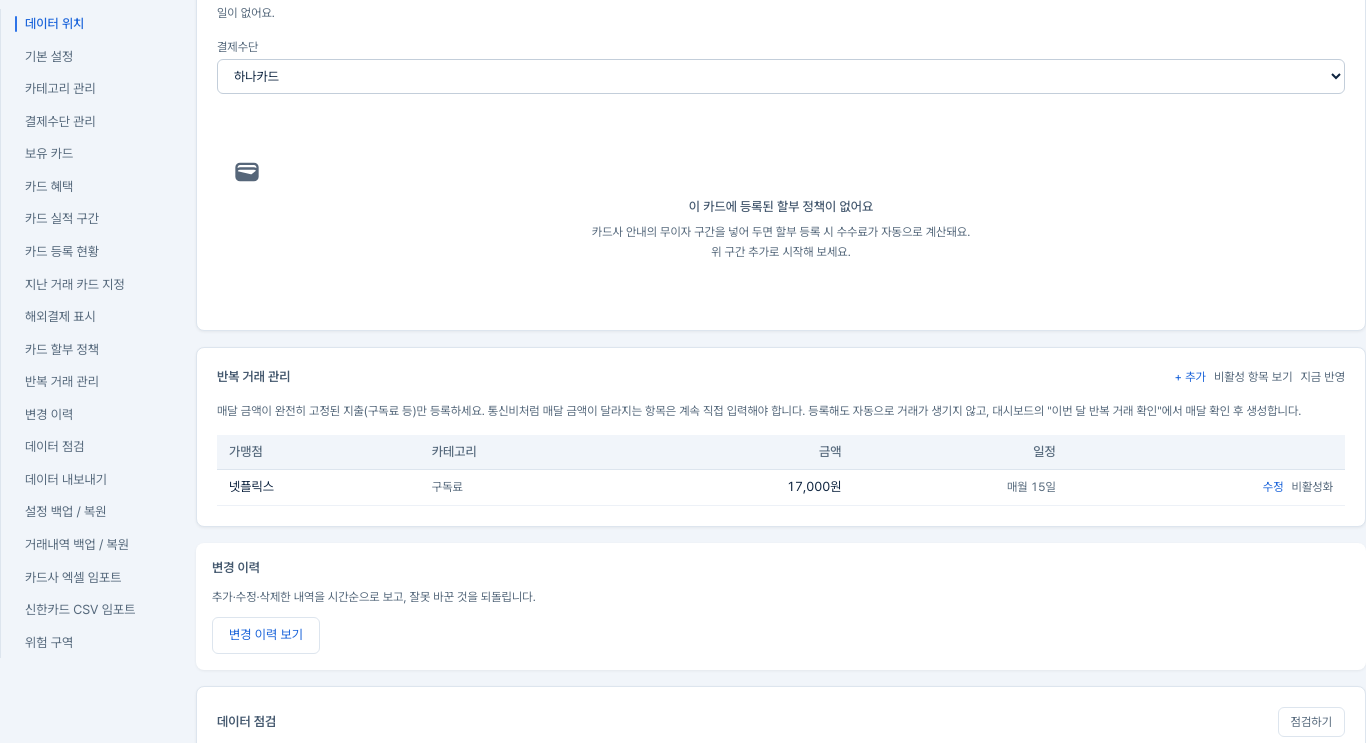
Test: 목록 › 비활성 항목 보기로 넘기면 함께 보여주고 일정도 주기에 맞춘다
The image size is (1366, 743).
(page scrolled)
Click the button "비활성 항목 보기" at (1253, 377), box [1214,369,1292,385]
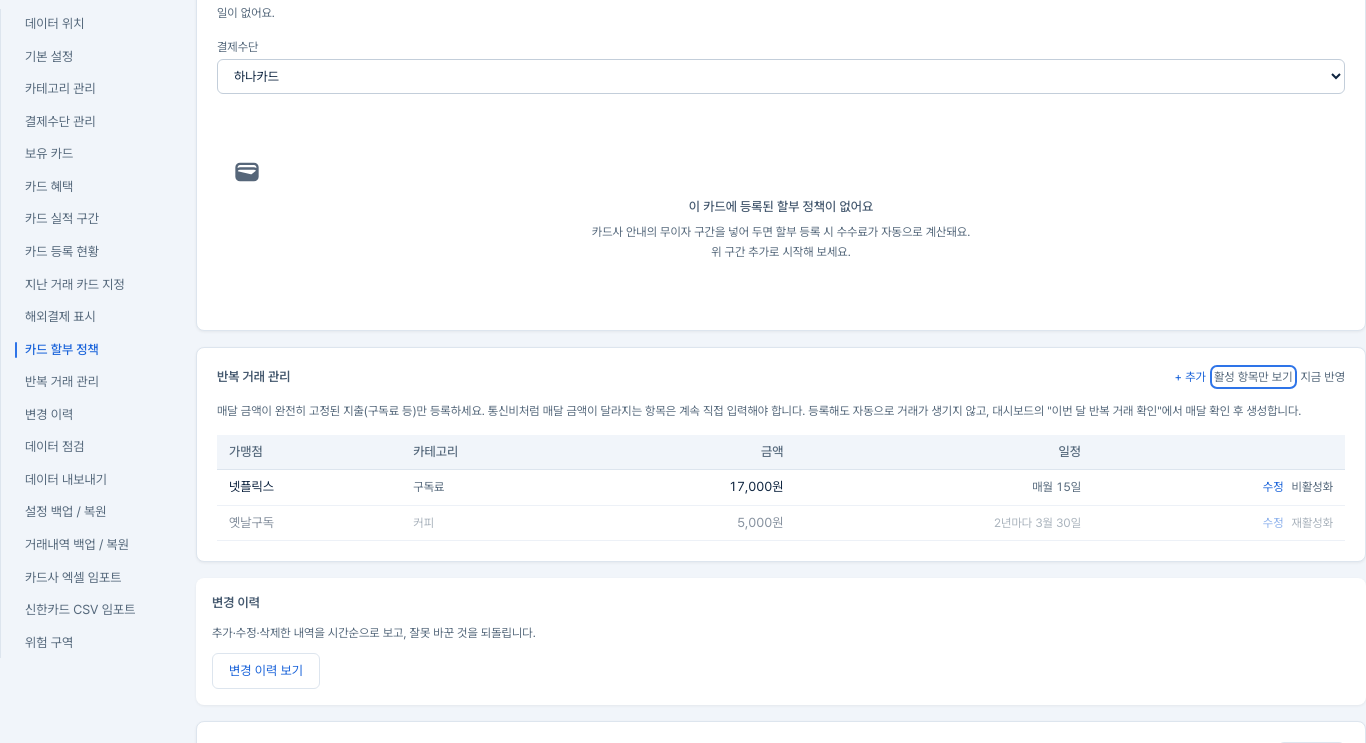
Result: the cell "옛날구독" is shown at [217,505,401,541]
Result: the cell "2년마다 3월 30일" is shown at [795,505,1093,541]
